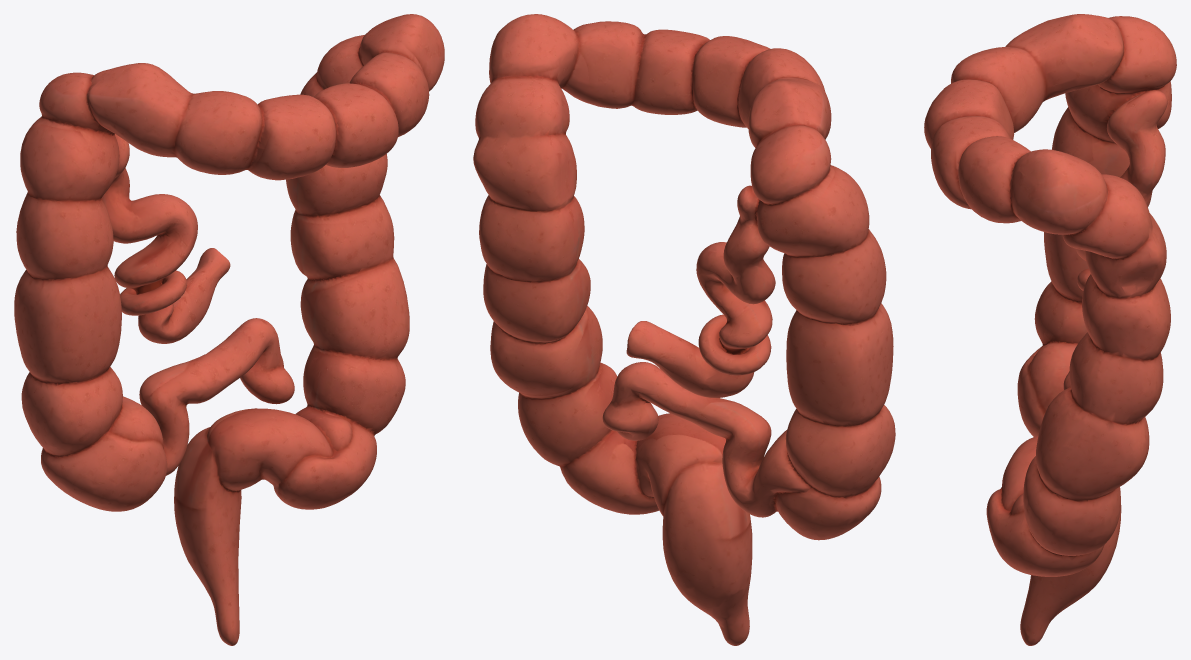
Rendered from Env_LargeIntestineTunnel.glb.
3 renders of one model, left to right at view 1: azimuth 30°, elevation 25°; view 2: azimuth 150°, elevation 25°; view 3: azimuth 270°, elevation 25°, orthographic. The views are drawn at different scales.
Bounding box in the file's own units: 1.36 × 1.9 × 0.732.
1 material, 1 textured.
